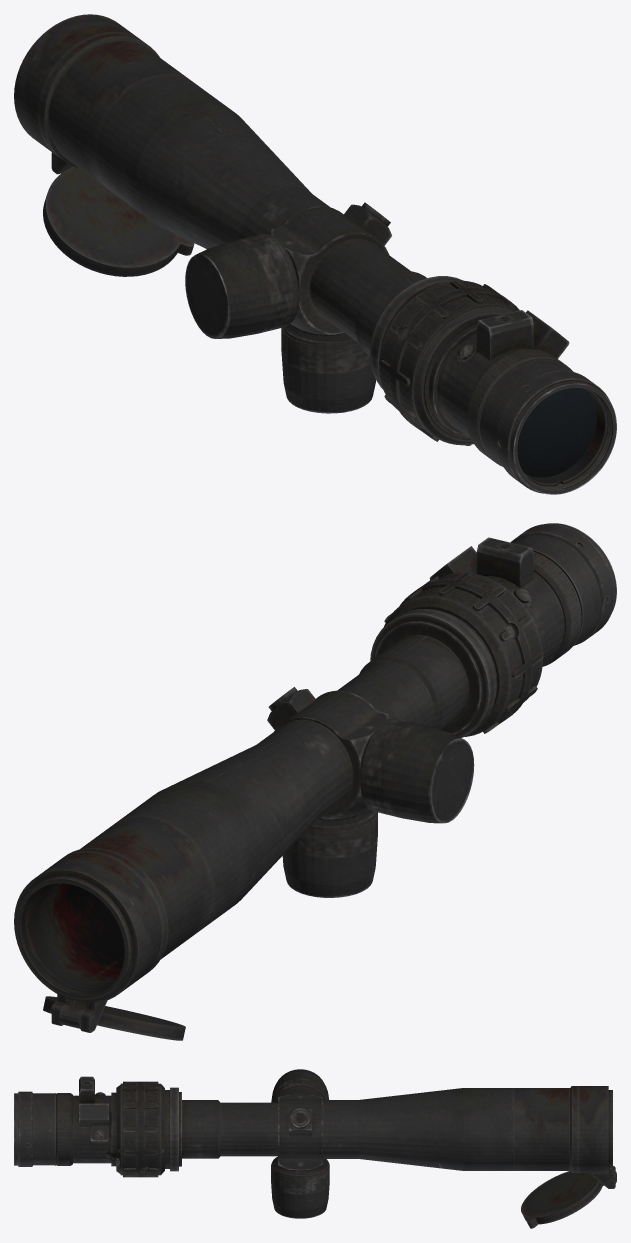
3 renders of one model, top to bottom at view 1: azimuth 30°, elevation 25°; view 2: azimuth 150°, elevation 25°; view 3: azimuth 270°, elevation 25°, orthographic. The views are drawn at different scales.
Parts seen in each view (by area): view 1: TW_5d0a3e8cd7ad1a6f6a3d35bd_mode1_PZ_Import; view 2: TW_5d0a3e8cd7ad1a6f6a3d35bd_mode1_PZ_Import; view 3: TW_5d0a3e8cd7ad1a6f6a3d35bd_mode1_PZ_Import.
Boxes of the visible parts, x1,y1,x2,y2 form: TW_5d0a3e8cd7ad1a6f6a3d35bd_mode1_PZ_Import: (14, 14, 616, 494); TW_5d0a3e8cd7ad1a6f6a3d35bd_mode1_PZ_Import: (14, 523, 616, 1040); TW_5d0a3e8cd7ad1a6f6a3d35bd_mode1_PZ_Import: (14, 1069, 616, 1228).
Bounding box in the file's own units: 0.0453 × 0.2036 × 0.0496.
Materials: 1 (1 with a texture image).
